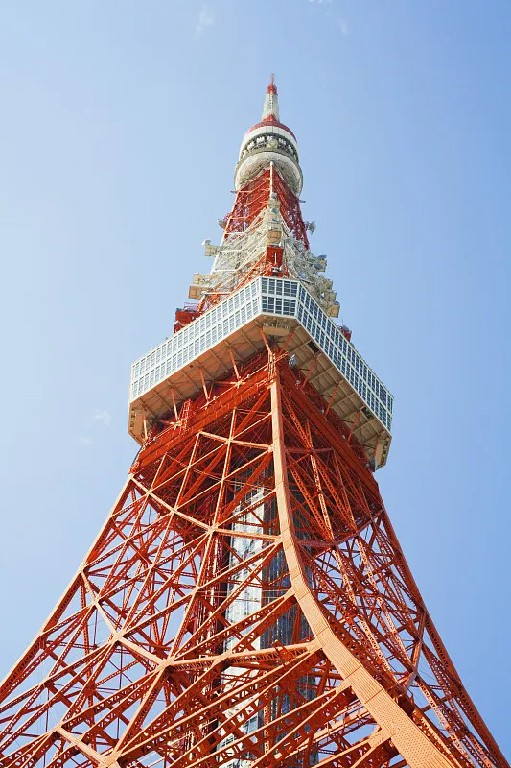Tokyo: (1, 68, 511, 768)
